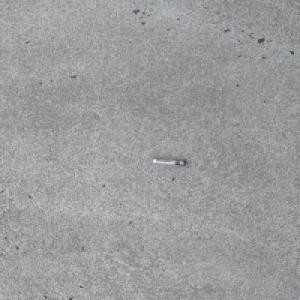Battery: (151, 158, 187, 166)
